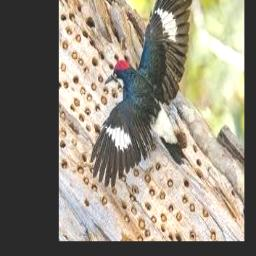Woodpecker: (90, 0, 192, 187)
